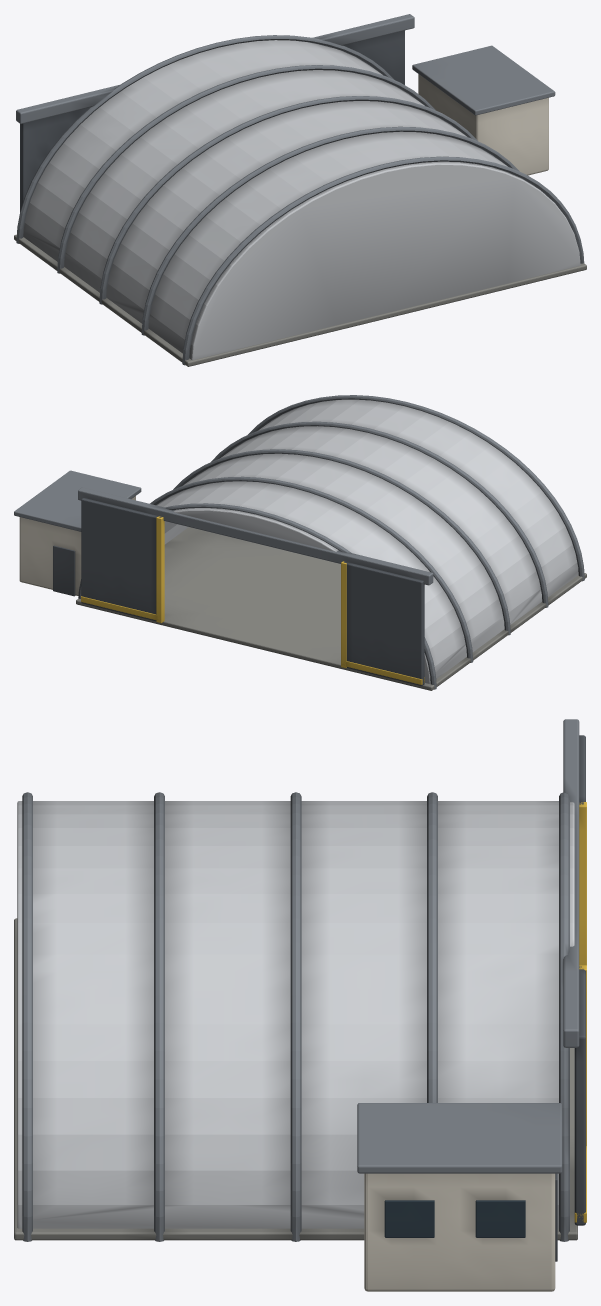
Rendered from garage.glb.
3 renders of one model, top to bottom at view 1: azimuth 30°, elevation 25°; view 2: azimuth 150°, elevation 25°; view 3: azimuth 270°, elevation 25°, orthographic. The views are drawn at different scales.
Visible parts, largest first — view 1: roof, back, annex-roof, annex, floor, rib, rib.003, rib.002, rib.001, rib.004, header, door (+1 smaller); view 2: roof, floor, door, door.001, header, annex-roof, annex, rib.002, rib.001, rib, rib.003, gable (+6 smaller); view 3: roof, annex, annex-roof, floor, rib.002, rib, rib.001, rib.004, header, rib.003, door.001, back (+4 smaller).
Part boxes in pixels (x1,y1,x2,y2): roof: [23, 40, 534, 358]; back: [190, 162, 580, 360]; annex-roof: [412, 45, 555, 115]; annex: [418, 74, 548, 175]; floor: [14, 234, 586, 366]; rib: [182, 156, 584, 365]; rib.003: [57, 65, 435, 273]; rib.002: [99, 96, 477, 304]; rib.001: [141, 126, 519, 335]; rib.004: [16, 35, 394, 243]; header: [16, 14, 414, 123]; door: [20, 107, 89, 211]; roof: [156, 399, 578, 683]; floor: [76, 527, 586, 690]; door: [344, 561, 424, 685]; door.001: [81, 498, 161, 621]; header: [78, 487, 433, 585]; annex-roof: [14, 470, 141, 531]; annex: [19, 496, 135, 595]; rib.002: [173, 449, 510, 635]; rib.001: [211, 421, 548, 607]; rib: [248, 395, 584, 581]; rib.003: [150, 476, 473, 662]; gable: [174, 508, 337, 551]; roof: [33, 801, 558, 1228]; annex: [364, 1173, 555, 1291]; annex-roof: [357, 1103, 562, 1173]; floor: [14, 918, 577, 1240]; rib.002: [290, 792, 301, 1241]; rib: [22, 792, 32, 1241]; rib.001: [154, 792, 164, 1241]; rib.004: [559, 792, 569, 1241]; header: [563, 719, 579, 1047]; rib.003: [427, 792, 437, 1102]; door.001: [574, 966, 585, 1225]; back: [17, 801, 22, 1228].
Size of the model in its own units: 19.49 by 5.94 by 12.6.
